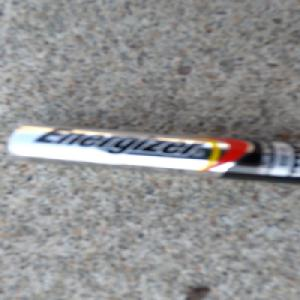Battery: (3, 122, 300, 185)
